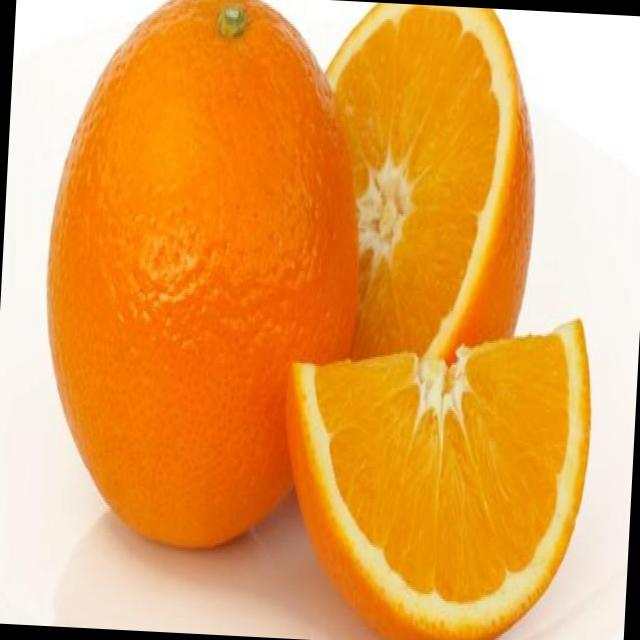orange: (25, 0, 383, 598)
